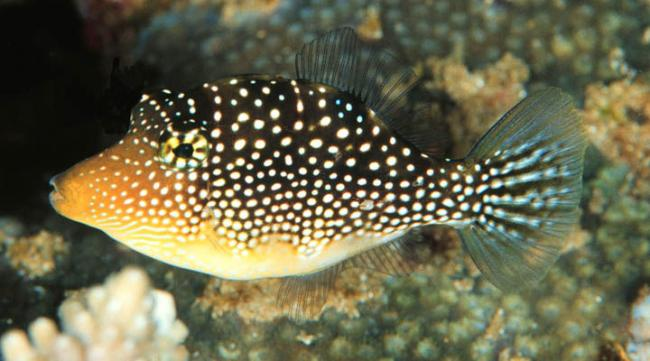fish: (48, 74, 586, 296)
